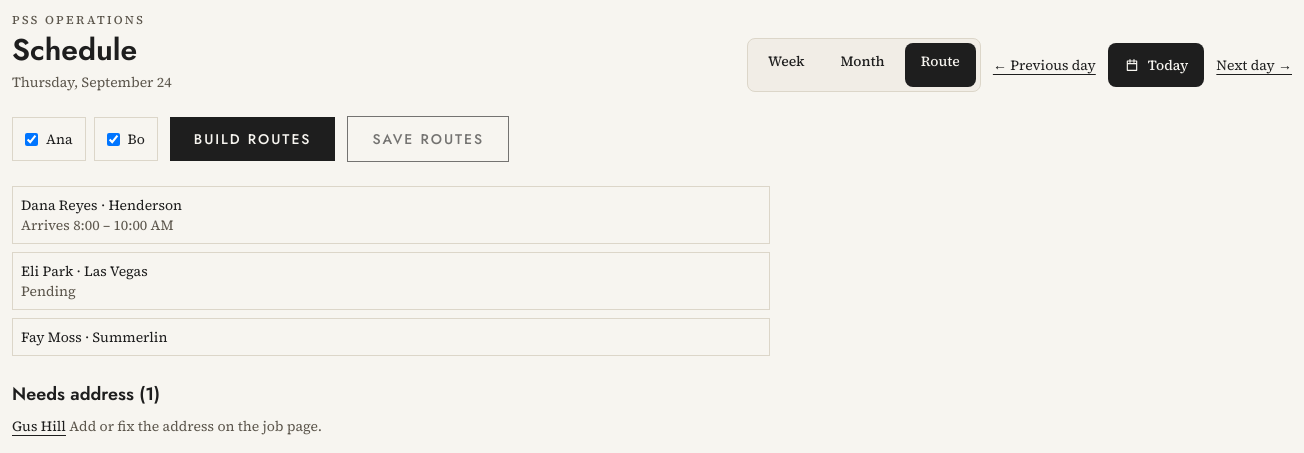
Scenario: Build routes › is disabled with a reason when no installer is checked
Click the checkbox labelled "Ana". click: (32, 139)
box: x1=25 y1=132 x2=38 y2=146
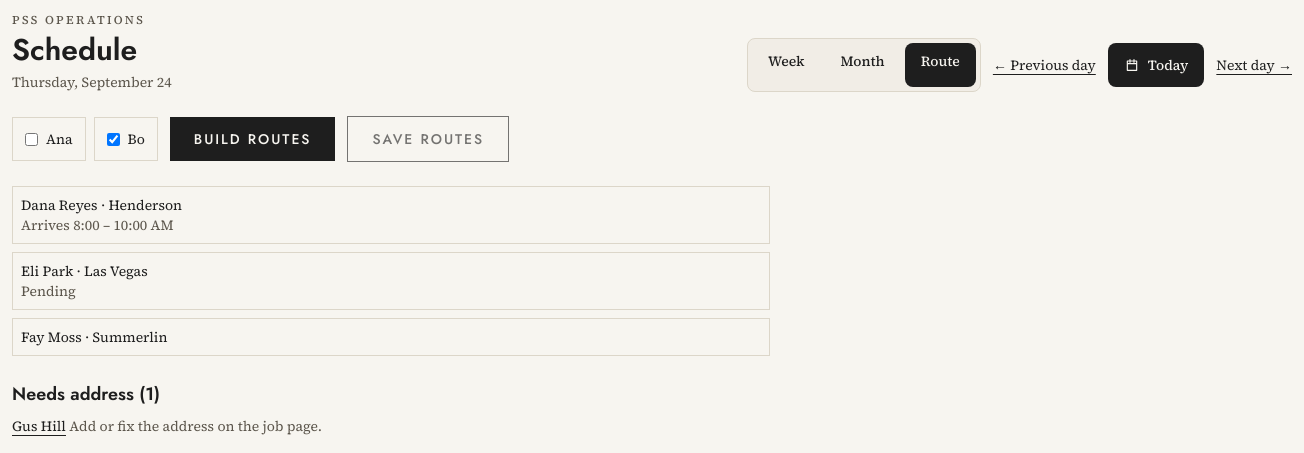
Check: the button "Build routes" is enabled, box x1=170 y1=117 x2=335 y2=161
Click the checkbox labelled "Bo". click: (113, 139)
box: x1=106 y1=132 x2=120 y2=146
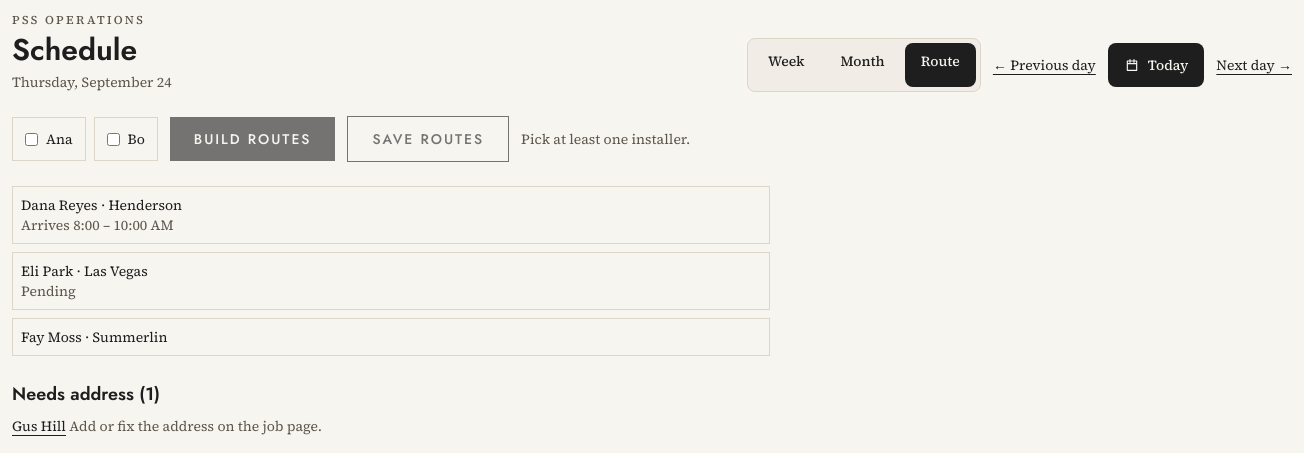
Check: the button "Build routes" is disabled, box x1=170 y1=117 x2=335 y2=161
Check: the text "Pick at least one installer." is shown, box x1=521 y1=129 x2=690 y2=149
